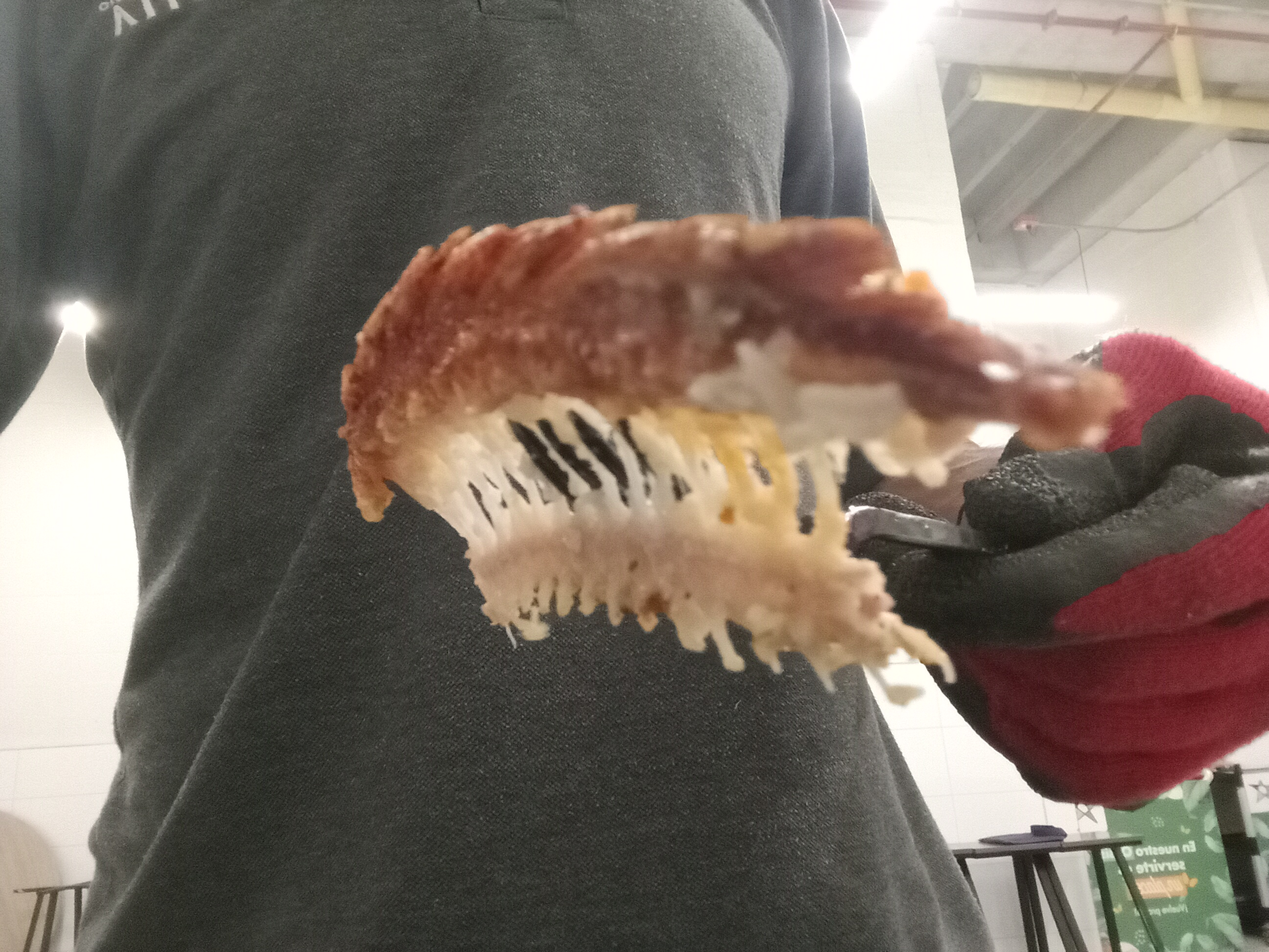Organico: (337, 202, 1123, 697)
